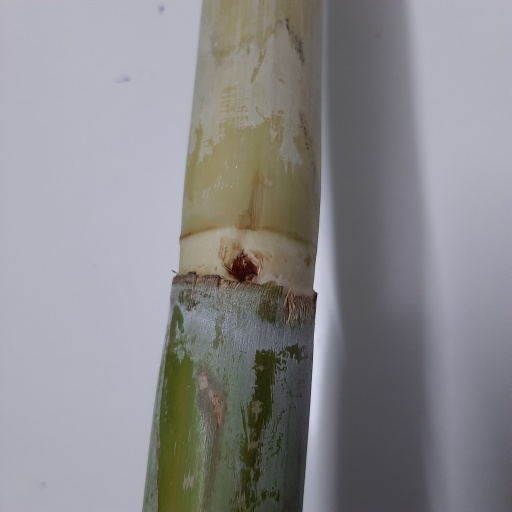Damage_Bud: (229, 249, 260, 283)
